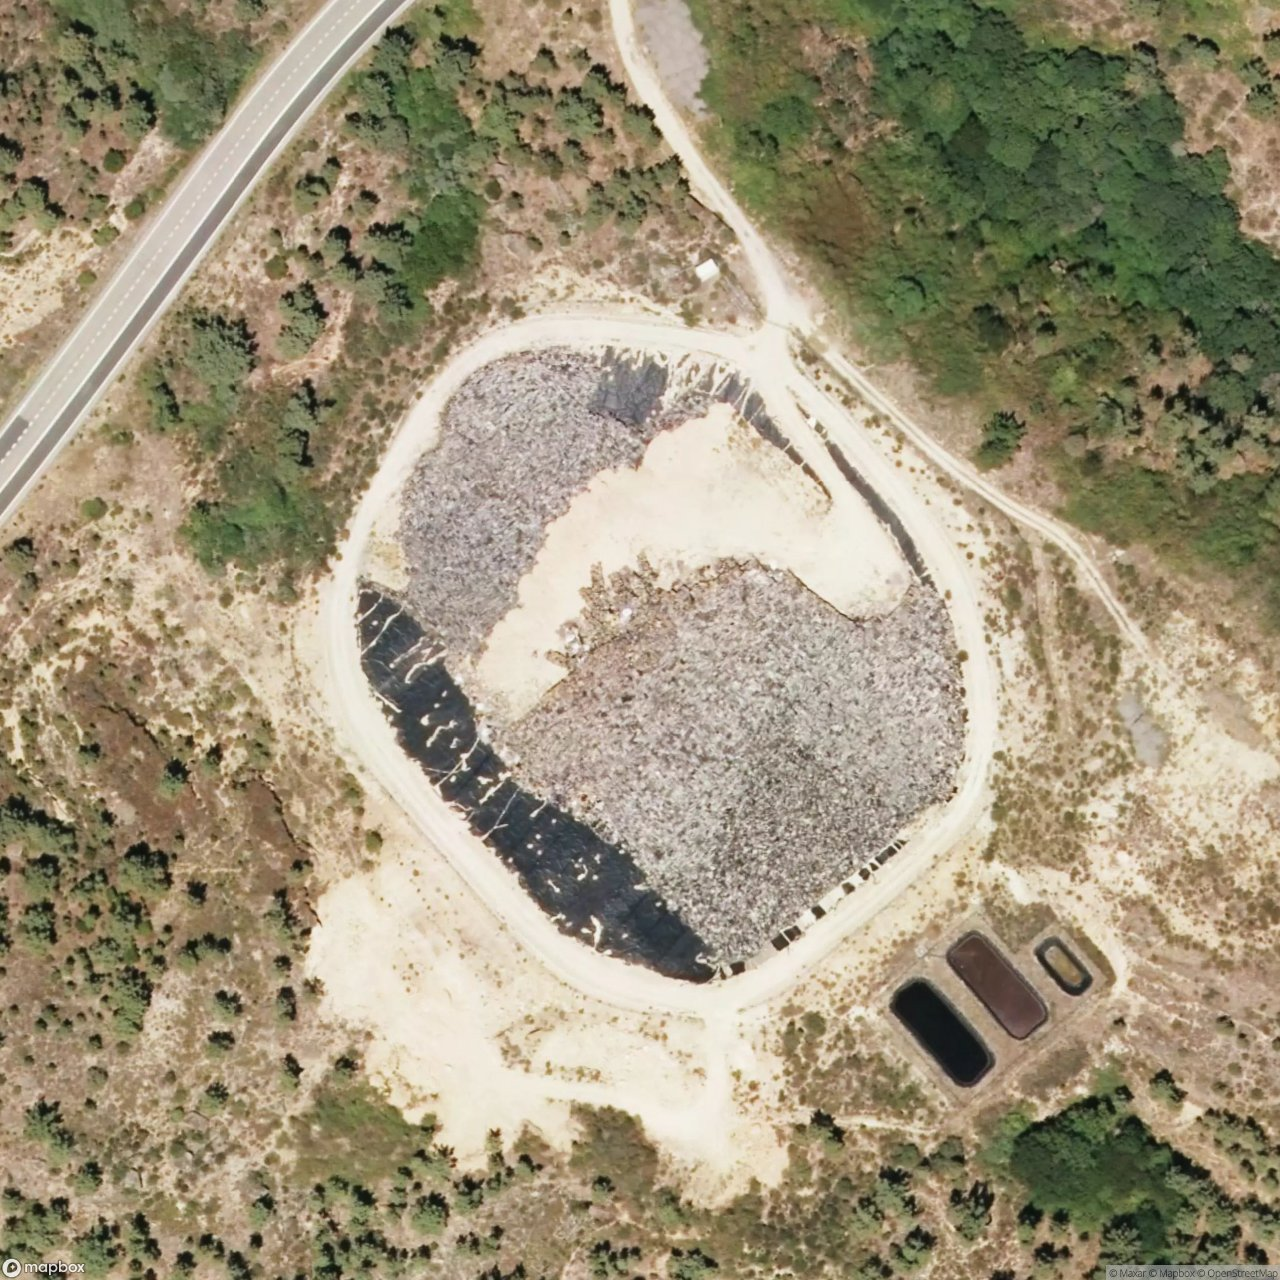dump_site: (461, 522, 979, 974), (374, 336, 714, 659)
